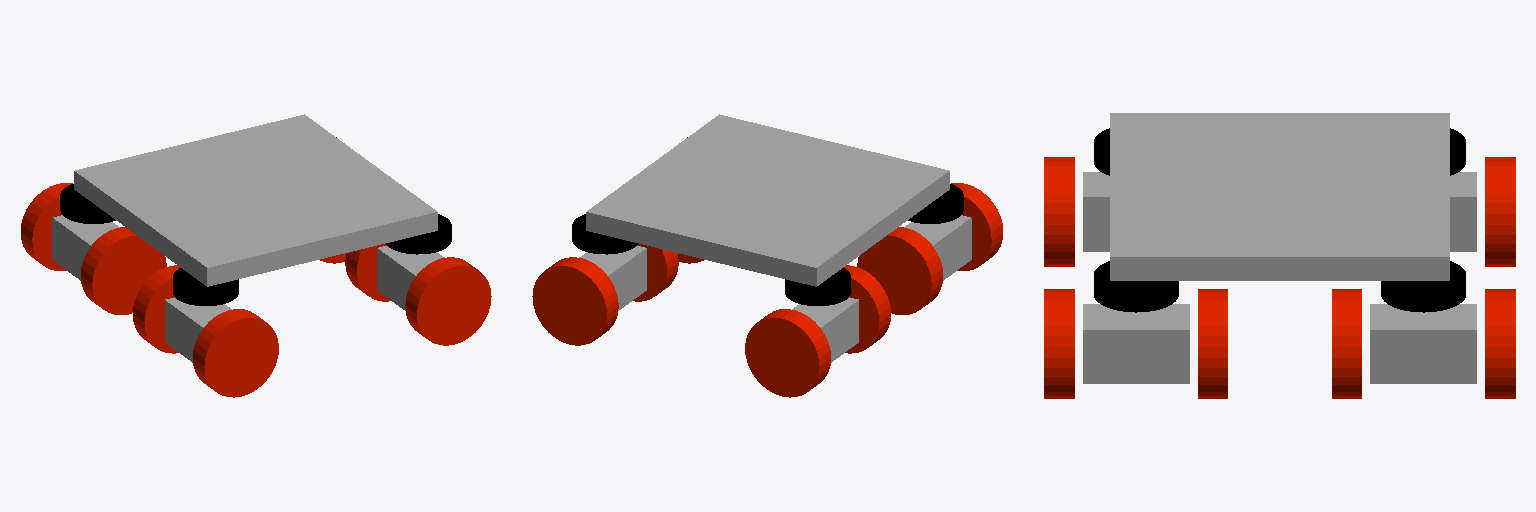
robot.urdf — wheelbot:
<?xml version="1.0" ?>
<!-- =================================================================================== -->
<!-- |    This document was autogenerated by xacro from swerveBOT.urdf.xacro           | -->
<!-- |    EDITING THIS FILE BY HAND IS NOT RECOMMENDED                                 | -->
<!-- =================================================================================== -->
<robot name="wheelbot">
  <material name="Aluminium">
    <color rgba="0.700 0.700 0.700 1.000"/>
  </material>
  <material name="PETG_orange">
    <color rgba="0.9 0.165 0.000 1.000"/>
  </material>
  <material name="Rubber">
    <color rgba="0 0 0 1.000"/>
  </material>
  <material name="invisible">
    <color rgba="0.0 0.0 0.0 0.0"/>
  </material>
  <link name="base_link"/>
  <link name="chassis_link">
    <collision>
      <origin rpy="0 0 0" xyz="0 0 0"/>
      <geometry>
        <box size="0.51 0.51 0.04"/>
      </geometry>
    </collision>
    <visual>
      <origin rpy="0 0 0" xyz="0 0 0"/>
      <geometry>
        <box size="0.51 0.51 0.04"/>
      </geometry>
      <material name="Aluminium"/>
    </visual>
    <inertial>
      <origin rpy="0 0 0" xyz="0 0 0"/>
      <mass value="5"/>
      <inertia ixx="0.000270" ixy="0.0" ixz="0.0" iyy="0.000270" iyz="0.0" izz="0.000426"/>
    </inertial>
  </link>
  <joint name="chassis_joint" type="fixed">
    <parent link="base_link"/>
    <child link="chassis_link"/>
    <origin rpy="0 0 0" xyz="0 0 0.217"/>
    <axis xyz="0 0 1"/>
    <dynamics damping="0.2"/>
  </joint>
  <link name="FL_steering_link">
    <visual>
      <origin rpy="0 0 0" xyz="0 0 0"/>
      <geometry>
        <cylinder length="0.032" radius="0.064"/>
      </geometry>
      <material name="Rubber"/>
    </visual>
  </link>
  <joint name="FL_steering_joint" type="revolute">
    <origin rpy="0 0 0" xyz="0.23500000000000001 0.215 -0.036000000000000004"/>
    <parent link="chassis_link"/>
    <child link="FL_steering_link"/>
    <axis xyz="0 0 1"/>
    <limit effort="100.0" lower="-1" upper="1" velocity="0.0"/>
    <dynamics damping="0.2"/>
  </joint>
  <link name="FL_chassis_2_link">
    <collision>
      <origin rpy="0 0 0" xyz="0 0 0"/>
      <geometry>
        <box size="0.09 0.16 0.09"/>
      </geometry>
    </collision>
    <visual>
      <origin rpy="0 0 0" xyz="0 0 0"/>
      <geometry>
        <box size="0.09 0.16 0.09"/>
      </geometry>
      <material name="Aluminium"/>
    </visual>
    <inertial>
      <origin rpy="0 0 0" xyz="0 0 0"/>
      <mass value="5"/>
      <inertia ixx="0.000270" ixy="0.0" ixz="0.0" iyy="0.000270" iyz="0.0" izz="0.000426"/>
    </inertial>
  </link>
  <joint name="FL_chassis_2_joint" type="fixed">
    <origin rpy="0 0 0" xyz="0 0 -0.0985"/>
    <parent link="FL_steering_link"/>
    <child link="FL_chassis_2_link"/>
  </joint>
  <link name="FL_wheel_drive_left">
    <collision>
      <origin rpy="1.5707963267948966 0 0" xyz="0 0 0"/>
      <geometry>
        <cylinder length="0.045" radius="0.0825"/>
      </geometry>
    </collision>
    <visual>
      <origin rpy="1.5707963267948966 0 1.5707963267948966" xyz="0 0 0"/>
      <geometry>
        <cylinder length="0.045" radius="0.0825"/>
      </geometry>
      <material name="PETG_orange"/>
    </visual>
    <inertial>
      <origin rpy="1.5707963267948966 0 1.5707963267948966" xyz="0 0 0"/>
      <mass value="0.3"/>
      <inertia ixx="0.0008167500000000001" ixy="0" ixz="0" iyy="0.0008167500000000001" iyz="0" izz="0.0008167500000000001"/>
    </inertial>
  </link>
  <joint name="FL_drive_left_joint" type="continuous">
    <origin rpy="0 0 1.5707963267948966" xyz="0 0.115 0"/>
    <parent link="FL_chassis_2_link"/>
    <child link="FL_wheel_drive_left"/>
    <axis xyz="1 0 0"/>
    <limit effort="100.0" velocity="100.0"/>
    <dynamics damping="0.2"/>
  </joint>
  <link name="FL_wheel_drive_right">
    <collision>
      <origin rpy="1.5707963267948966 0 0" xyz="0 0 0"/>
      <geometry>
        <cylinder length="0.045" radius="0.0825"/>
      </geometry>
    </collision>
    <visual>
      <origin rpy="1.5707963267948966 0 1.5707963267948966" xyz="0 0 0"/>
      <geometry>
        <cylinder length="0.045" radius="0.0825"/>
      </geometry>
      <material name="PETG_orange"/>
    </visual>
    <inertial>
      <origin rpy="1.5707963267948966 0 1.5707963267948966" xyz="0 0 0"/>
      <mass value="0.3"/>
      <inertia ixx="0.0008167500000000001" ixy="0" ixz="0" iyy="0.0008167500000000001" iyz="0" izz="0.0008167500000000001"/>
    </inertial>
  </link>
  <joint name="FL_drive_right_joint" type="continuous">
    <origin rpy="0 0 1.5707963267948966" xyz="0 -0.115 0"/>
    <parent link="FL_chassis_2_link"/>
    <child link="FL_wheel_drive_right"/>
    <axis xyz="1 0 0"/>
    <limit effort="100.0" velocity="100.0"/>
    <dynamics damping="0.2"/>
  </joint>
  <link name="FR_steering_link">
    <visual>
      <origin rpy="0 0 0" xyz="0 0 0"/>
      <geometry>
        <cylinder length="0.032" radius="0.064"/>
      </geometry>
      <material name="Rubber"/>
    </visual>
  </link>
  <joint name="FR_steering_joint" type="revolute">
    <origin rpy="0 0 0" xyz="0.23500000000000001 -0.215 -0.036000000000000004"/>
    <parent link="chassis_link"/>
    <child link="FR_steering_link"/>
    <axis xyz="0 0 1"/>
    <limit effort="100.0" lower="-1" upper="1" velocity="0.0"/>
    <dynamics damping="0.2"/>
  </joint>
  <link name="FR_chassis_2_link">
    <collision>
      <origin rpy="0 0 0" xyz="0 0 0"/>
      <geometry>
        <box size="0.09 0.16 0.09"/>
      </geometry>
    </collision>
    <visual>
      <origin rpy="0 0 0" xyz="0 0 0"/>
      <geometry>
        <box size="0.09 0.16 0.09"/>
      </geometry>
      <material name="Aluminium"/>
    </visual>
    <inertial>
      <origin rpy="0 0 0" xyz="0 0 0"/>
      <mass value="5"/>
      <inertia ixx="0.000270" ixy="0.0" ixz="0.0" iyy="0.000270" iyz="0.0" izz="0.000426"/>
    </inertial>
  </link>
  <joint name="FR_chassis_2_joint" type="fixed">
    <origin rpy="0 0 0" xyz="0 0 -0.0985"/>
    <parent link="FR_steering_link"/>
    <child link="FR_chassis_2_link"/>
  </joint>
  <link name="FR_wheel_drive_left">
    <collision>
      <origin rpy="1.5707963267948966 0 0" xyz="0 0 0"/>
      <geometry>
        <cylinder length="0.045" radius="0.0825"/>
      </geometry>
    </collision>
    <visual>
      <origin rpy="1.5707963267948966 0 1.5707963267948966" xyz="0 0 0"/>
      <geometry>
        <cylinder length="0.045" radius="0.0825"/>
      </geometry>
      <material name="PETG_orange"/>
    </visual>
    <inertial>
      <origin rpy="1.5707963267948966 0 1.5707963267948966" xyz="0 0 0"/>
      <mass value="0.3"/>
      <inertia ixx="0.0008167500000000001" ixy="0" ixz="0" iyy="0.0008167500000000001" iyz="0" izz="0.0008167500000000001"/>
    </inertial>
  </link>
  <joint name="FR_drive_left_joint" type="continuous">
    <origin rpy="0 0 1.5707963267948966" xyz="0 0.115 0"/>
    <parent link="FR_chassis_2_link"/>
    <child link="FR_wheel_drive_left"/>
    <axis xyz="1 0 0"/>
    <limit effort="100.0" velocity="100.0"/>
    <dynamics damping="0.2"/>
  </joint>
  <link name="FR_wheel_drive_right">
    <collision>
      <origin rpy="1.5707963267948966 0 0" xyz="0 0 0"/>
      <geometry>
        <cylinder length="0.045" radius="0.0825"/>
      </geometry>
    </collision>
    <visual>
      <origin rpy="1.5707963267948966 0 1.5707963267948966" xyz="0 0 0"/>
      <geometry>
        <cylinder length="0.045" radius="0.0825"/>
      </geometry>
      <material name="PETG_orange"/>
    </visual>
    <inertial>
      <origin rpy="1.5707963267948966 0 1.5707963267948966" xyz="0 0 0"/>
      <mass value="0.3"/>
      <inertia ixx="0.0008167500000000001" ixy="0" ixz="0" iyy="0.0008167500000000001" iyz="0" izz="0.0008167500000000001"/>
    </inertial>
  </link>
  <joint name="FR_drive_right_joint" type="continuous">
    <origin rpy="0 0 1.5707963267948966" xyz="0 -0.115 0"/>
    <parent link="FR_chassis_2_link"/>
    <child link="FR_wheel_drive_right"/>
    <axis xyz="1 0 0"/>
    <limit effort="100.0" velocity="100.0"/>
    <dynamics damping="0.2"/>
  </joint>
  <link name="RL_steering_link">
    <visual>
      <origin rpy="0 0 0" xyz="0 0 0"/>
      <geometry>
        <cylinder length="0.032" radius="0.064"/>
      </geometry>
      <material name="Rubber"/>
    </visual>
  </link>
  <joint name="RL_steering_joint" type="revolute">
    <origin rpy="0 0 0" xyz="-0.23500000000000001 0.215 -0.036000000000000004"/>
    <parent link="chassis_link"/>
    <child link="RL_steering_link"/>
    <axis xyz="0 0 1"/>
    <limit effort="100.0" lower="-1" upper="1" velocity="0.0"/>
    <dynamics damping="0.2"/>
  </joint>
  <link name="RL_chassis_2_link">
    <collision>
      <origin rpy="0 0 0" xyz="0 0 0"/>
      <geometry>
        <box size="0.09 0.16 0.09"/>
      </geometry>
    </collision>
    <visual>
      <origin rpy="0 0 0" xyz="0 0 0"/>
      <geometry>
        <box size="0.09 0.16 0.09"/>
      </geometry>
      <material name="Aluminium"/>
    </visual>
    <inertial>
      <origin rpy="0 0 0" xyz="0 0 0"/>
      <mass value="5"/>
      <inertia ixx="0.000270" ixy="0.0" ixz="0.0" iyy="0.000270" iyz="0.0" izz="0.000426"/>
    </inertial>
  </link>
  <joint name="RL_chassis_2_joint" type="fixed">
    <origin rpy="0 0 0" xyz="0 0 -0.0985"/>
    <parent link="RL_steering_link"/>
    <child link="RL_chassis_2_link"/>
  </joint>
  <link name="RL_wheel_drive_left">
    <collision>
      <origin rpy="1.5707963267948966 0 0" xyz="0 0 0"/>
      <geometry>
        <cylinder length="0.045" radius="0.0825"/>
      </geometry>
    </collision>
    <visual>
      <origin rpy="1.5707963267948966 0 1.5707963267948966" xyz="0 0 0"/>
      <geometry>
        <cylinder length="0.045" radius="0.0825"/>
      </geometry>
      <material name="PETG_orange"/>
    </visual>
    <inertial>
      <origin rpy="1.5707963267948966 0 1.5707963267948966" xyz="0 0 0"/>
      <mass value="0.3"/>
      <inertia ixx="0.0008167500000000001" ixy="0" ixz="0" iyy="0.0008167500000000001" iyz="0" izz="0.0008167500000000001"/>
    </inertial>
  </link>
  <joint name="RL_drive_left_joint" type="continuous">
    <origin rpy="0 0 1.5707963267948966" xyz="0 0.115 0"/>
    <parent link="RL_chassis_2_link"/>
    <child link="RL_wheel_drive_left"/>
    <axis xyz="1 0 0"/>
    <limit effort="100.0" velocity="100.0"/>
    <dynamics damping="0.2"/>
  </joint>
  <link name="RL_wheel_drive_right">
    <collision>
      <origin rpy="1.5707963267948966 0 0" xyz="0 0 0"/>
      <geometry>
        <cylinder length="0.045" radius="0.0825"/>
      </geometry>
    </collision>
    <visual>
      <origin rpy="1.5707963267948966 0 1.5707963267948966" xyz="0 0 0"/>
      <geometry>
        <cylinder length="0.045" radius="0.0825"/>
      </geometry>
      <material name="PETG_orange"/>
    </visual>
    <inertial>
      <origin rpy="1.5707963267948966 0 1.5707963267948966" xyz="0 0 0"/>
      <mass value="0.3"/>
      <inertia ixx="0.0008167500000000001" ixy="0" ixz="0" iyy="0.0008167500000000001" iyz="0" izz="0.0008167500000000001"/>
    </inertial>
  </link>
  <joint name="RL_drive_right_joint" type="continuous">
    <origin rpy="0 0 1.5707963267948966" xyz="0 -0.115 0"/>
    <parent link="RL_chassis_2_link"/>
    <child link="RL_wheel_drive_right"/>
    <axis xyz="1 0 0"/>
    <limit effort="100.0" velocity="100.0"/>
    <dynamics damping="0.2"/>
  </joint>
  <link name="RR_steering_link">
    <visual>
      <origin rpy="0 0 0" xyz="0 0 0"/>
      <geometry>
        <cylinder length="0.032" radius="0.064"/>
      </geometry>
      <material name="Rubber"/>
    </visual>
  </link>
  <joint name="RR_steering_joint" type="revolute">
    <origin rpy="0 0 0" xyz="-0.23500000000000001 -0.215 -0.036000000000000004"/>
    <parent link="chassis_link"/>
    <child link="RR_steering_link"/>
    <axis xyz="0 0 1"/>
    <limit effort="100.0" lower="-1" upper="1" velocity="0.0"/>
    <dynamics damping="0.2"/>
  </joint>
  <link name="RR_chassis_2_link">
    <collision>
      <origin rpy="0 0 0" xyz="0 0 0"/>
      <geometry>
        <box size="0.09 0.16 0.09"/>
      </geometry>
    </collision>
    <visual>
      <origin rpy="0 0 0" xyz="0 0 0"/>
      <geometry>
        <box size="0.09 0.16 0.09"/>
      </geometry>
      <material name="Aluminium"/>
    </visual>
    <inertial>
      <origin rpy="0 0 0" xyz="0 0 0"/>
      <mass value="5"/>
      <inertia ixx="0.000270" ixy="0.0" ixz="0.0" iyy="0.000270" iyz="0.0" izz="0.000426"/>
    </inertial>
  </link>
  <joint name="RR_chassis_2_joint" type="fixed">
    <origin rpy="0 0 0" xyz="0 0 -0.0985"/>
    <parent link="RR_steering_link"/>
    <child link="RR_chassis_2_link"/>
  </joint>
  <link name="RR_wheel_drive_left">
    <collision>
      <origin rpy="1.5707963267948966 0 0" xyz="0 0 0"/>
      <geometry>
        <cylinder length="0.045" radius="0.0825"/>
      </geometry>
    </collision>
    <visual>
      <origin rpy="1.5707963267948966 0 1.5707963267948966" xyz="0 0 0"/>
      <geometry>
        <cylinder length="0.045" radius="0.0825"/>
      </geometry>
      <material name="PETG_orange"/>
    </visual>
    <inertial>
      <origin rpy="1.5707963267948966 0 1.5707963267948966" xyz="0 0 0"/>
      <mass value="0.3"/>
      <inertia ixx="0.0008167500000000001" ixy="0" ixz="0" iyy="0.0008167500000000001" iyz="0" izz="0.0008167500000000001"/>
    </inertial>
  </link>
  <joint name="RR_drive_left_joint" type="continuous">
    <origin rpy="0 0 1.5707963267948966" xyz="0 0.115 0"/>
    <parent link="RR_chassis_2_link"/>
    <child link="RR_wheel_drive_left"/>
    <axis xyz="1 0 0"/>
    <limit effort="100.0" velocity="100.0"/>
    <dynamics damping="0.2"/>
  </joint>
  <link name="RR_wheel_drive_right">
    <collision>
      <origin rpy="1.5707963267948966 0 0" xyz="0 0 0"/>
      <geometry>
        <cylinder length="0.045" radius="0.0825"/>
      </geometry>
    </collision>
    <visual>
      <origin rpy="1.5707963267948966 0 1.5707963267948966" xyz="0 0 0"/>
      <geometry>
        <cylinder length="0.045" radius="0.0825"/>
      </geometry>
      <material name="PETG_orange"/>
    </visual>
    <inertial>
      <origin rpy="1.5707963267948966 0 1.5707963267948966" xyz="0 0 0"/>
      <mass value="0.3"/>
      <inertia ixx="0.0008167500000000001" ixy="0" ixz="0" iyy="0.0008167500000000001" iyz="0" izz="0.0008167500000000001"/>
    </inertial>
  </link>
  <joint name="RR_drive_right_joint" type="continuous">
    <origin rpy="0 0 1.5707963267948966" xyz="0 -0.115 0"/>
    <parent link="RR_chassis_2_link"/>
    <child link="RR_wheel_drive_right"/>
    <axis xyz="1 0 0"/>
    <limit effort="100.0" velocity="100.0"/>
    <dynamics damping="0.2"/>
  </joint>

</robot>

--- Render facts (derived) ---
The picture shows the robot from 3 angles, left to right: view 1: azimuth 30°, elevation 25°; view 2: azimuth 150°, elevation 25°; view 3: azimuth 270°, elevation 25°; orthographic projection.
Model wheelbot with 18 links and 17 joints (4 revolute, 8 continuous, 5 fixed), rooted at base_link, posed every joint at zero.
Visible links, largest first — view 1: chassis_link, RR_wheel_drive_right, FR_wheel_drive_right, RL_wheel_drive_right, RR_wheel_drive_left, RL_wheel_drive_left, RL_chassis_2_link, FR_chassis_2_link, RR_chassis_2_link, RR_steering_link, FR_wheel_drive_left, FR_steering_link (+1 smaller); view 2: chassis_link, RL_wheel_drive_left, FL_wheel_drive_left, RR_wheel_drive_left, RL_wheel_drive_right, RR_wheel_drive_right, RR_chassis_2_link, FL_chassis_2_link, RL_chassis_2_link, RL_steering_link, FL_wheel_drive_right, FL_steering_link (+1 smaller); view 3: chassis_link, FL_chassis_2_link, FR_chassis_2_link, FL_wheel_drive_left, FR_wheel_drive_right, RL_wheel_drive_left, RR_wheel_drive_right, FL_wheel_drive_right, FR_wheel_drive_left, FL_steering_link, FR_steering_link, RL_chassis_2_link (+3 smaller).
Boxes of the visible links, <box> form: chassis_link: <box>74,114,437,286</box>; RR_wheel_drive_right: <box>193,309,278,397</box>; FR_wheel_drive_right: <box>405,257,491,345</box>; RL_wheel_drive_right: <box>81,227,166,314</box>; RR_wheel_drive_left: <box>133,265,180,353</box>; RL_wheel_drive_left: <box>21,183,72,270</box>; RL_chassis_2_link: <box>52,215,119,280</box>; FR_chassis_2_link: <box>377,246,444,310</box>; RR_chassis_2_link: <box>165,297,231,362</box>; RR_steering_link: <box>173,268,238,305</box>; FR_wheel_drive_left: <box>345,243,390,301</box>; FR_steering_link: <box>386,214,451,254</box>; chassis_link: <box>586,114,949,286</box>; RL_wheel_drive_left: <box>745,309,830,397</box>; FL_wheel_drive_left: <box>532,257,618,345</box>; RR_wheel_drive_left: <box>857,227,942,314</box>; RL_wheel_drive_right: <box>843,265,890,353</box>; RR_wheel_drive_right: <box>951,183,1002,270</box>; RR_chassis_2_link: <box>904,215,971,280</box>; FL_chassis_2_link: <box>579,246,646,310</box>; RL_chassis_2_link: <box>792,297,858,362</box>; RL_steering_link: <box>785,268,850,305</box>; FL_wheel_drive_right: <box>633,243,678,301</box>; FL_steering_link: <box>572,214,637,254</box>; chassis_link: <box>1110,113,1449,280</box>; FL_chassis_2_link: <box>1370,304,1476,383</box>; FR_chassis_2_link: <box>1083,304,1189,383</box>; FL_wheel_drive_left: <box>1485,289,1515,398</box>; FR_wheel_drive_right: <box>1044,289,1074,398</box>; RL_wheel_drive_left: <box>1485,157,1515,266</box>; RR_wheel_drive_right: <box>1044,157,1074,266</box>; FL_wheel_drive_right: <box>1332,289,1361,398</box>; FR_wheel_drive_left: <box>1198,289,1227,398</box>; FL_steering_link: <box>1381,261,1465,312</box>; FR_steering_link: <box>1094,261,1178,312</box>; RL_chassis_2_link: <box>1450,172,1476,251</box>.
Size in the robot's own frame: 0.635 by 0.705 by 0.237 metres.
Geometry: primitives only (box / cylinder / sphere), no mesh files.
